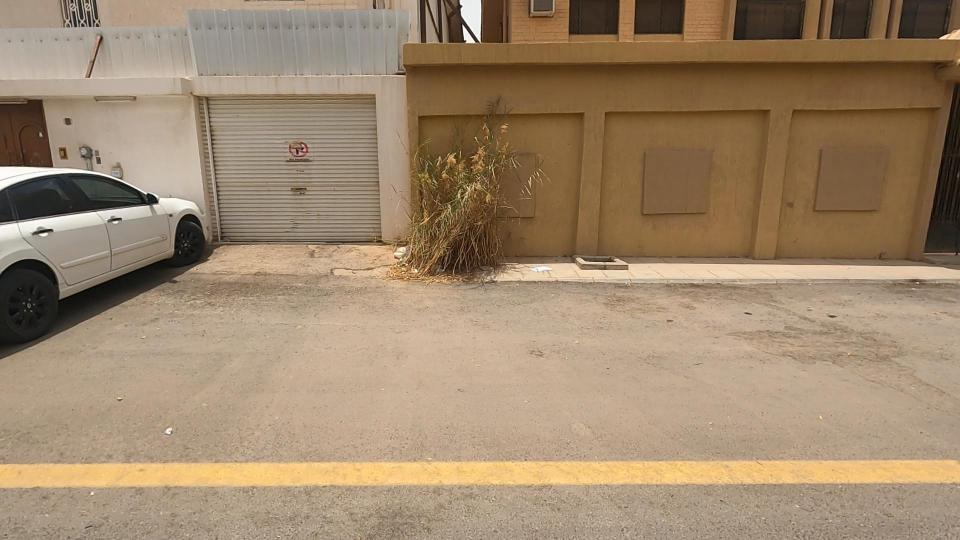GARBAGE: (364, 222, 440, 284), (510, 246, 564, 289)
